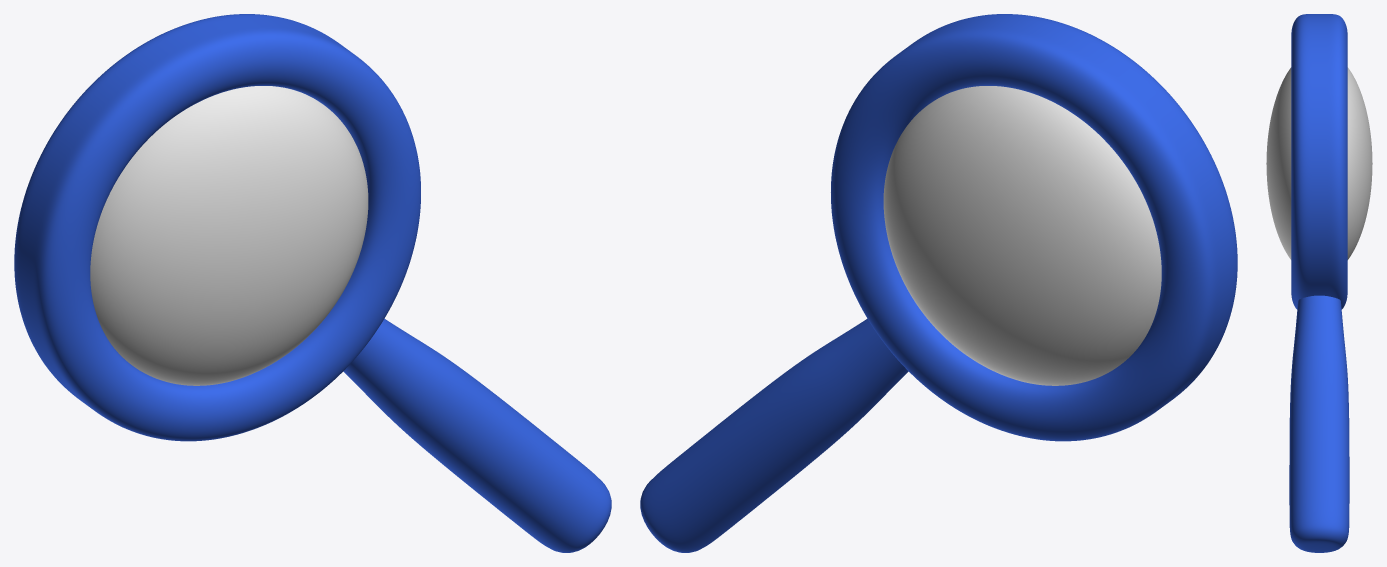
Rendered from zoom.glb.
3 views of the same model, side by side, from view 1: azimuth 30°, elevation 25°; view 2: azimuth 150°, elevation 25°; view 3: azimuth 270°, elevation 25° (orthographic). The views are drawn at different scales.
Visible parts, largest first — view 1: Outer; view 2: Outer; view 3: Outer.
Part boxes in pixels (bbox=[...]): Outer: bbox=[14, 14, 611, 552]; Outer: bbox=[640, 14, 1237, 552]; Outer: bbox=[1266, 14, 1372, 552].
Size of the model in its own units: 1.78 by 1.78 by 0.4159.
